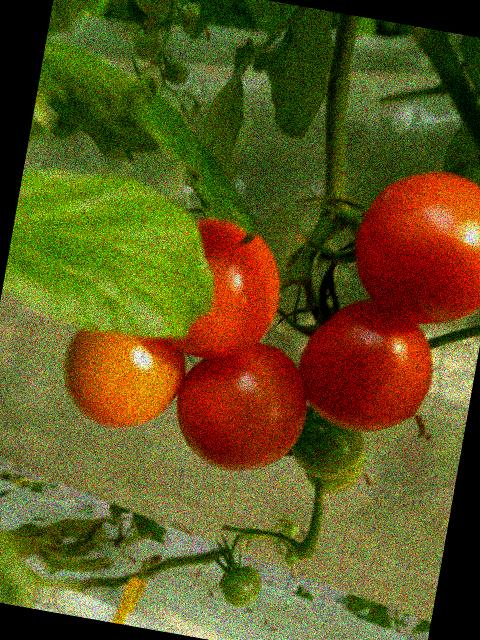l_fully_ripened: (288, 288, 444, 443), (342, 159, 480, 334), (165, 329, 317, 484), (162, 214, 291, 370)
l_green: (288, 408, 368, 485), (299, 441, 366, 501), (218, 562, 264, 610), (283, 550, 299, 567), (286, 520, 299, 538)
l_half_ripened: (55, 322, 191, 438)
